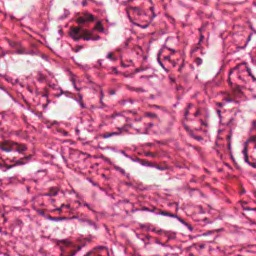mitosis: (87, 38, 97, 48)
